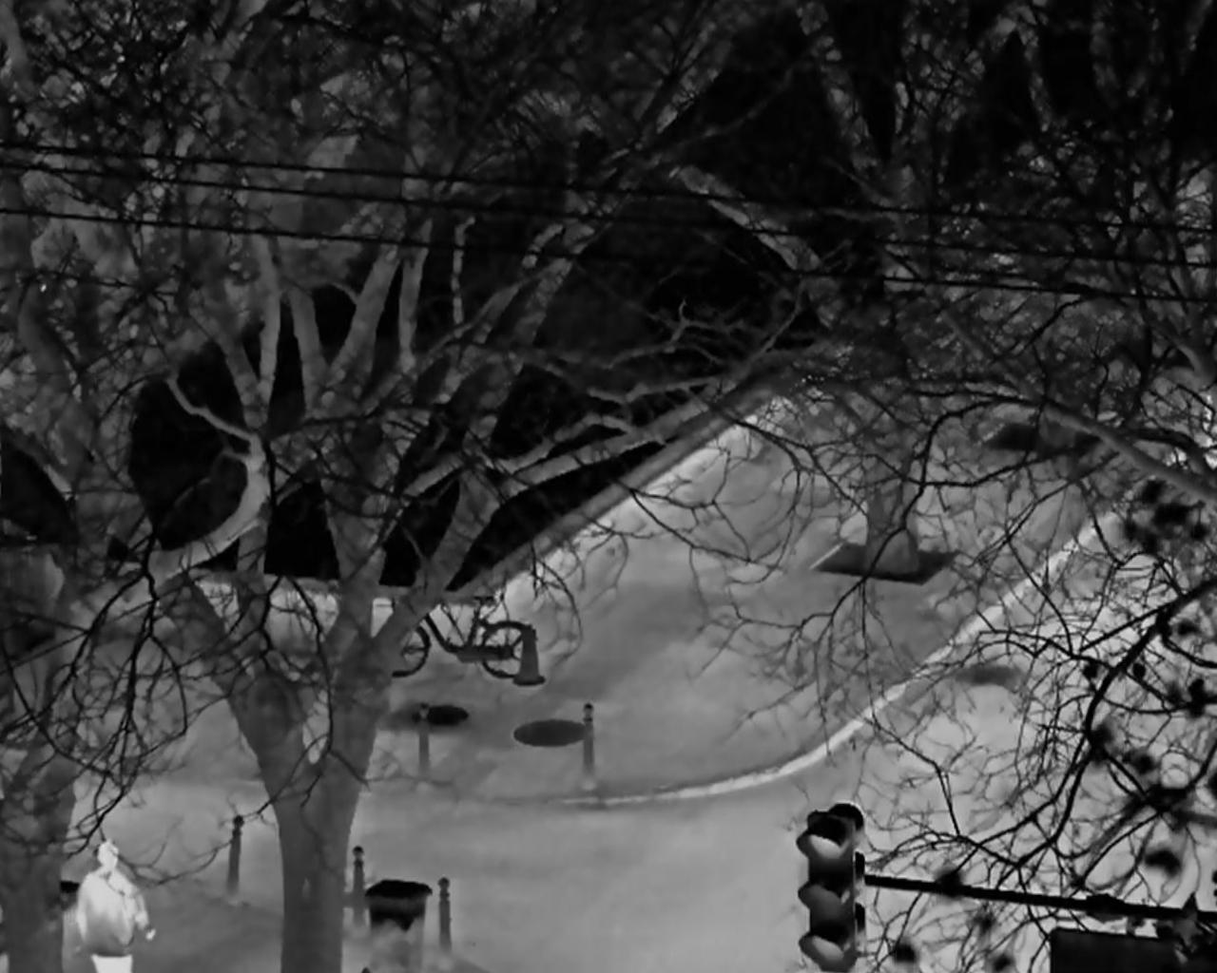person: (76, 838, 155, 973)
